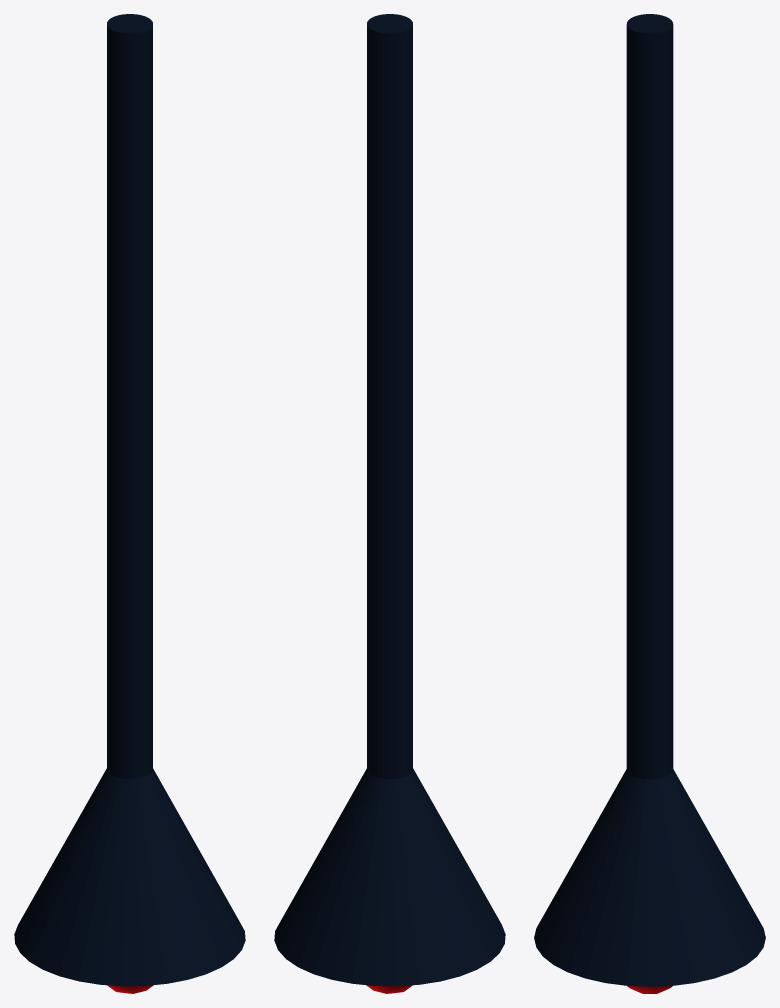
File: Lamp.fbx
3 renders of one model, left to right at view 1: azimuth 30°, elevation 25°; view 2: azimuth 150°, elevation 25°; view 3: azimuth 270°, elevation 25°, orthographic.
Visible parts, largest first — view 1: Cylinder; view 2: Cylinder; view 3: Cylinder.
Boxes of the visible parts, x1,y1,x2,y2 form: Cylinder: [14, 14, 245, 986]; Cylinder: [274, 14, 505, 986]; Cylinder: [534, 14, 765, 986].
Bounding box in the file's own units: 200 × 919 × 200.
